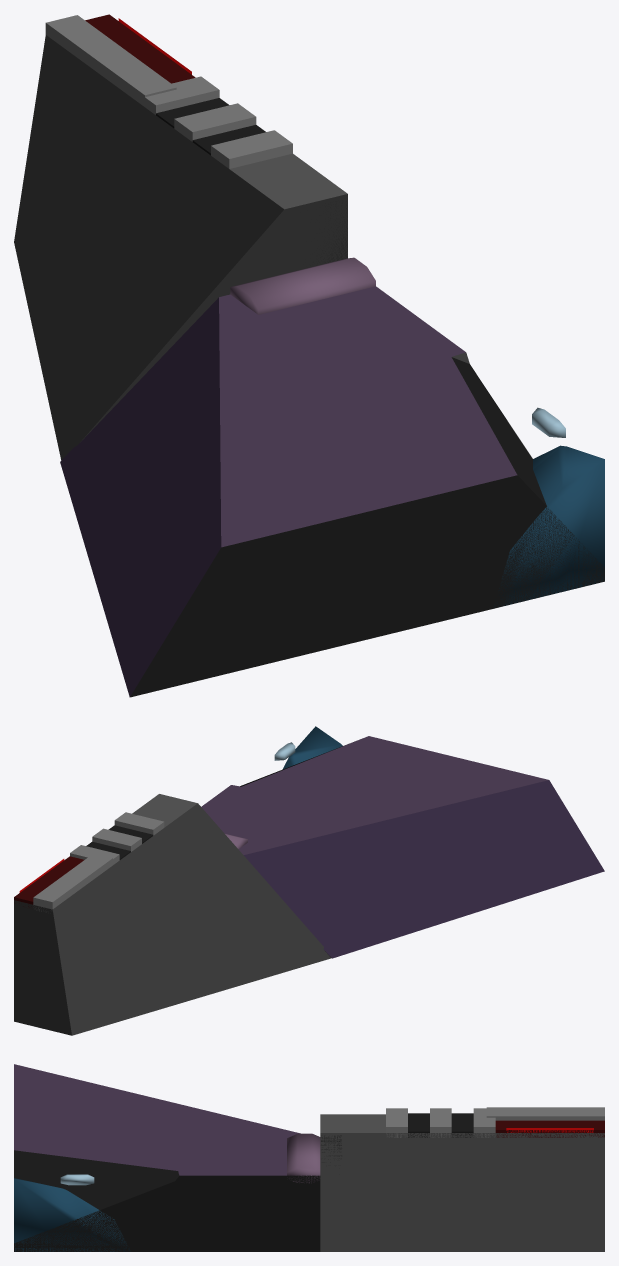
The model's file is newshb-2.glb.
3 renders of one model, top to bottom at view 1: azimuth 30°, elevation 25°; view 2: azimuth 150°, elevation 25°; view 3: azimuth 270°, elevation 25°, orthographic. The views are drawn at different scales.
Visible parts, largest first — view 1: newshb-2; view 2: newshb-2; view 3: newshb-2.
Part boxes in pixels (x1,y1,x2,y2): newshb-2: (14, 14, 604, 697); newshb-2: (14, 726, 604, 1035); newshb-2: (14, 1064, 604, 1251).
Bounding box in the file's own units: 1.25 × 0.53 × 2.25.
